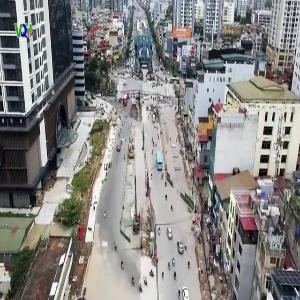drone: (70, 104, 122, 156)
